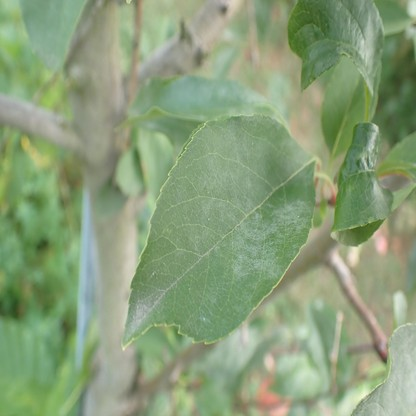powdery_mildew: (155, 118, 311, 304), (351, 323, 416, 416), (19, 0, 85, 70), (126, 295, 159, 342), (165, 80, 227, 99), (241, 85, 264, 105)
